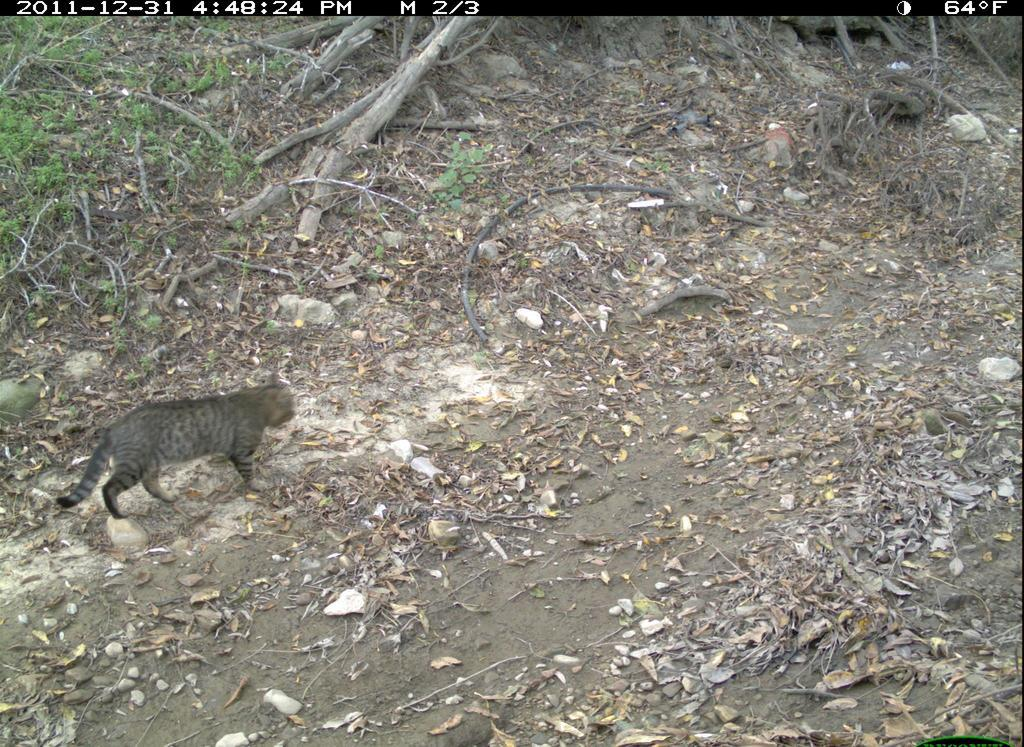cat: (58, 374, 313, 527)
